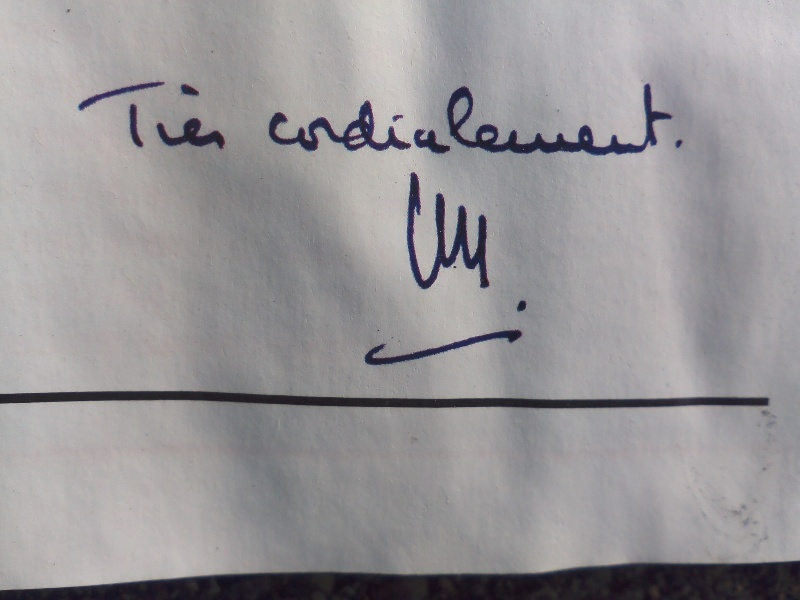text: (369, 170, 384, 374), (385, 170, 400, 374), (401, 170, 416, 374), (417, 170, 432, 374), (433, 170, 448, 374), (449, 170, 464, 374), (465, 170, 480, 374), (481, 170, 496, 374), (497, 170, 512, 374), (513, 170, 528, 374), (529, 170, 539, 374), (273, 76, 288, 166), (289, 76, 304, 166), (305, 76, 320, 166), (321, 76, 336, 166), (337, 76, 352, 166), (353, 76, 368, 166), (369, 76, 384, 166), (385, 76, 400, 166), (401, 76, 416, 166), (417, 76, 432, 166), (433, 76, 448, 166), (449, 76, 464, 166), (465, 76, 480, 166), (481, 76, 496, 166), (497, 76, 512, 166), (513, 76, 528, 166), (529, 76, 544, 166), (545, 76, 560, 166), (561, 76, 576, 166), (577, 76, 592, 166), (593, 76, 608, 166), (609, 76, 624, 166), (625, 76, 640, 166), (641, 76, 656, 166), (657, 76, 672, 166), (673, 76, 687, 166), (81, 79, 96, 152), (97, 79, 112, 152), (113, 79, 128, 152), (129, 79, 144, 152), (145, 79, 160, 152), (161, 79, 176, 152), (177, 79, 192, 152), (193, 79, 208, 152), (209, 79, 224, 152), (265, 76, 272, 166), (75, 79, 80, 152), (225, 79, 229, 152), (367, 170, 368, 374)
